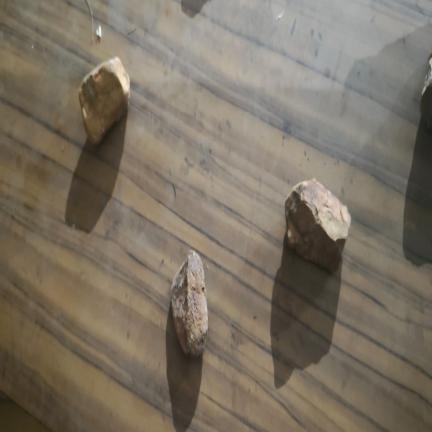Rocks: (285, 179, 350, 271), (79, 58, 130, 144), (171, 251, 207, 356), (421, 55, 431, 127)
